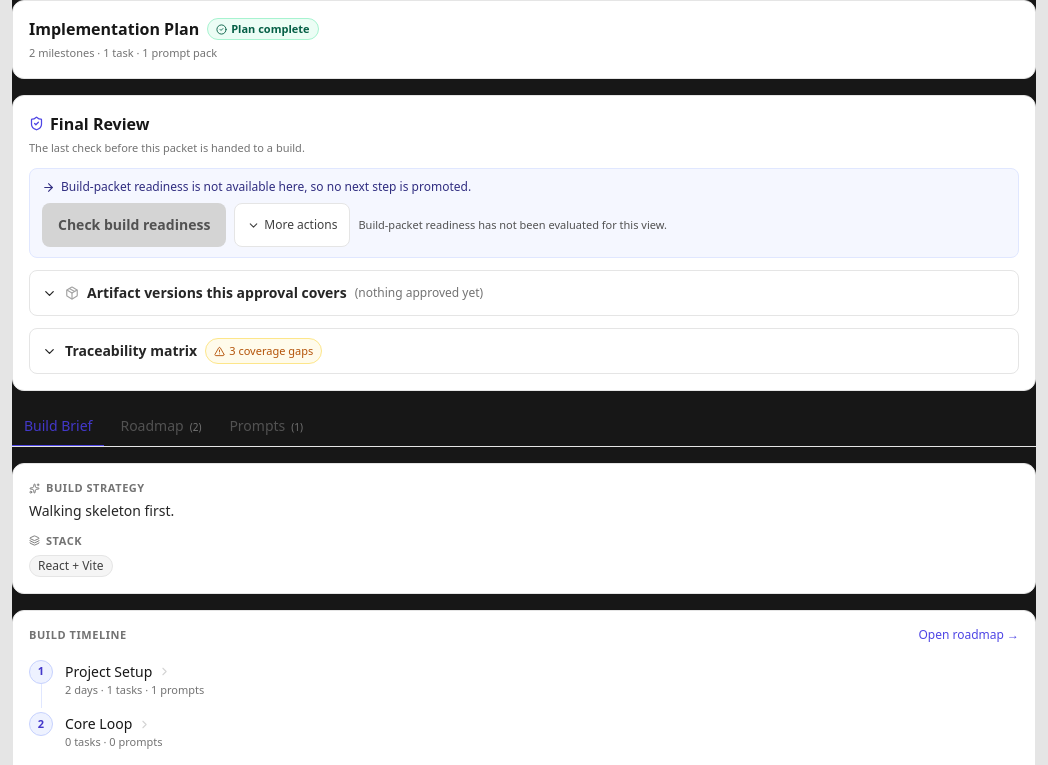
Test: ImplementationPlanRenderer (consolidated view) › shows milestone detail with tasks, validation commands, and Done when
Click the button "Roadmap(2)" at (161, 427), box [108,407,213,447]
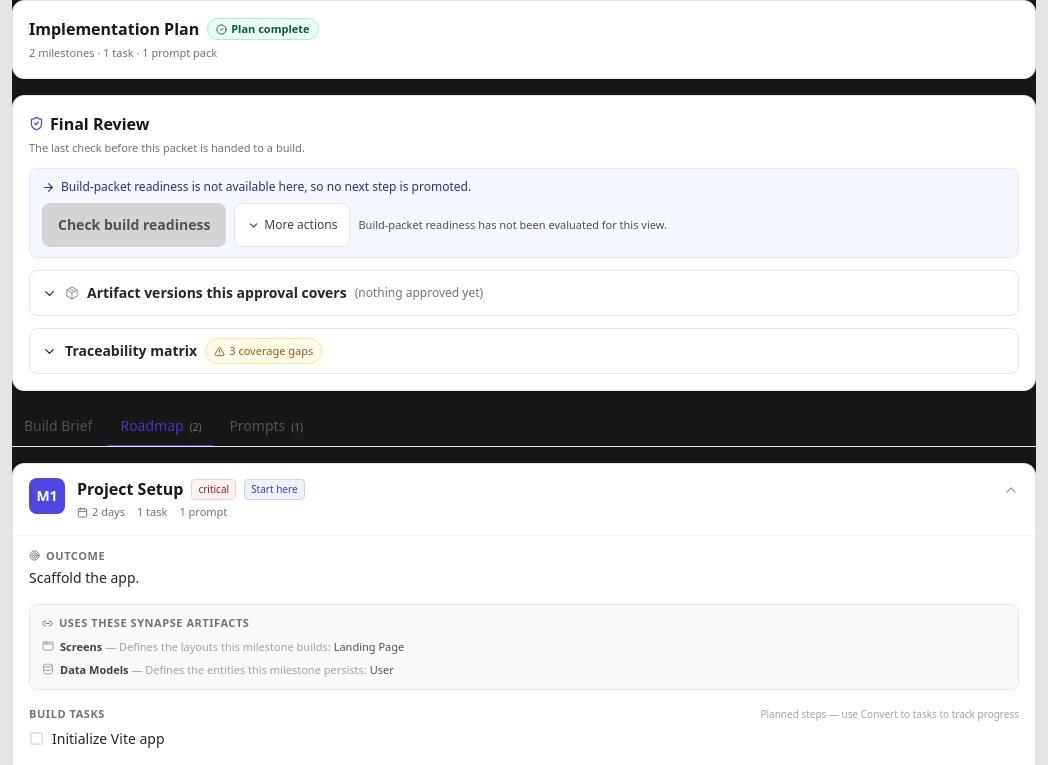
Result: the text "Initialize Vite app" is shown at [52,729,164,748]
Result: the text "Landing Page" is shown at [334,638,404,654]
Result: the text "Planned steps — use Convert to tasks to track progress" is shown at [760,707,1019,722]
